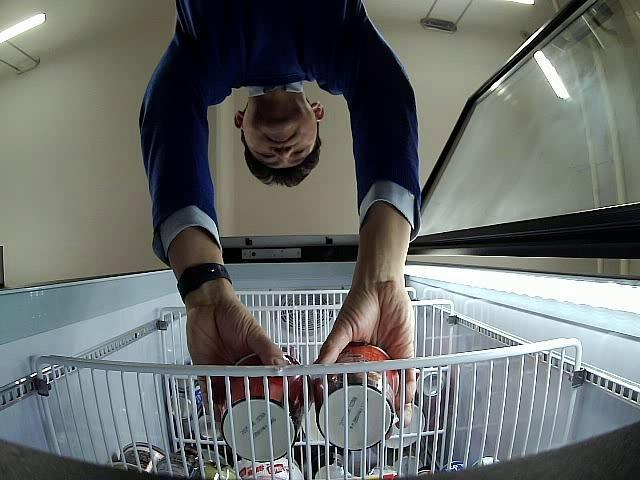02_shinRamen_S: (220, 353, 311, 462), (314, 342, 400, 450)
